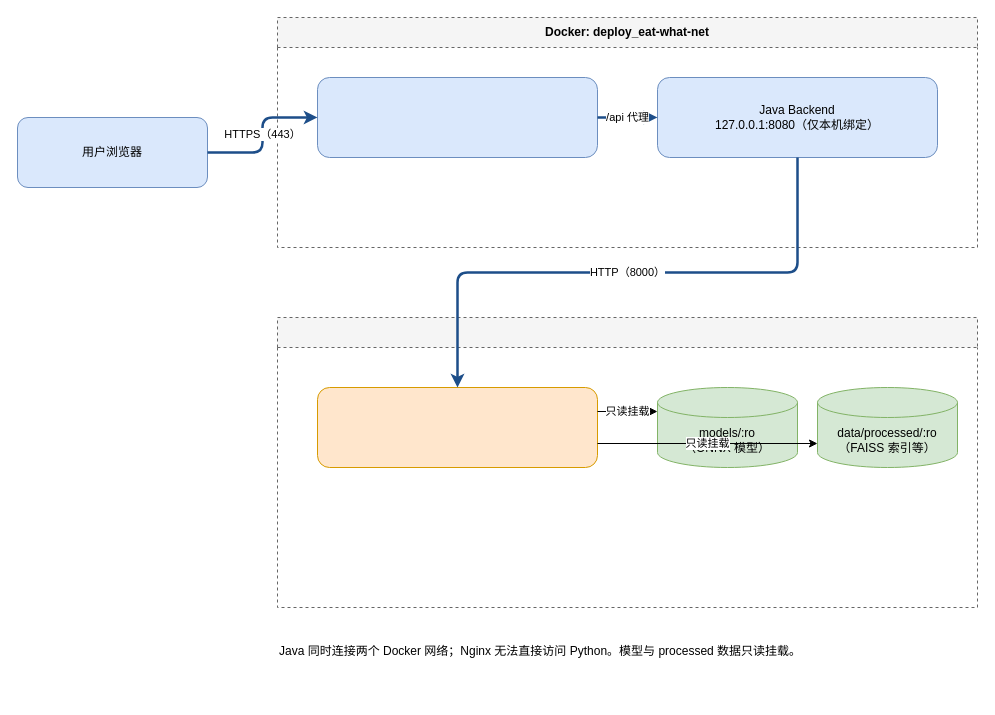
The diagram is 995 pixels wide and 715 high, and some of its shapes have lost their labels. Here are the shapes that lost their labels. From the top down, the box of each, then its label:
(316, 76, 598, 158): Nginx 0.0.0.0:80/443 · TLS 终止 /api 反向代理 · 限流 2 req/s
(316, 386, 598, 468): Python Agent expose 8000（不映射公网）
(276, 316, 978, 608): Docker: ai-copilot-net
